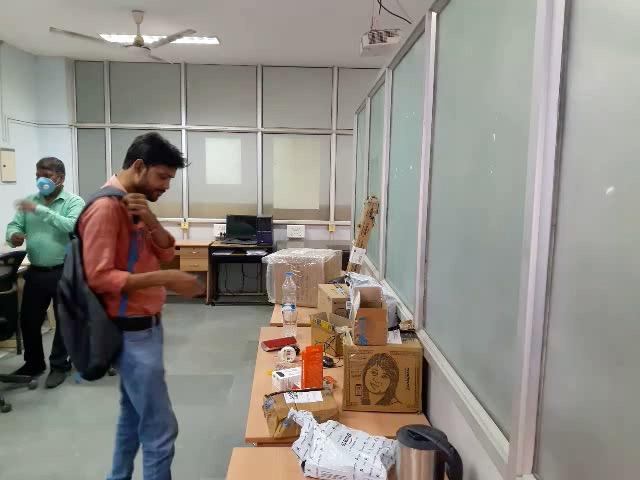Normal: (57, 126, 267, 480)
